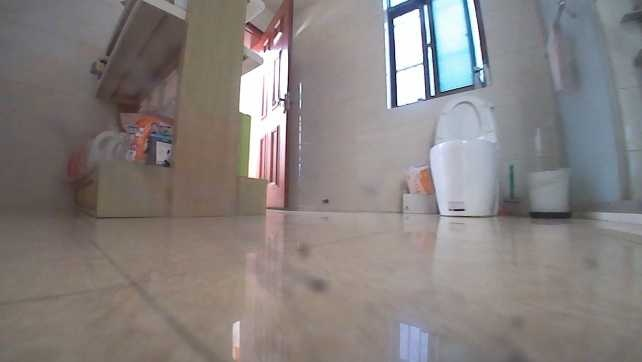door_anno: (247, 0, 295, 210)
toilet: (424, 93, 503, 220)
trash_can: (524, 165, 575, 220)
